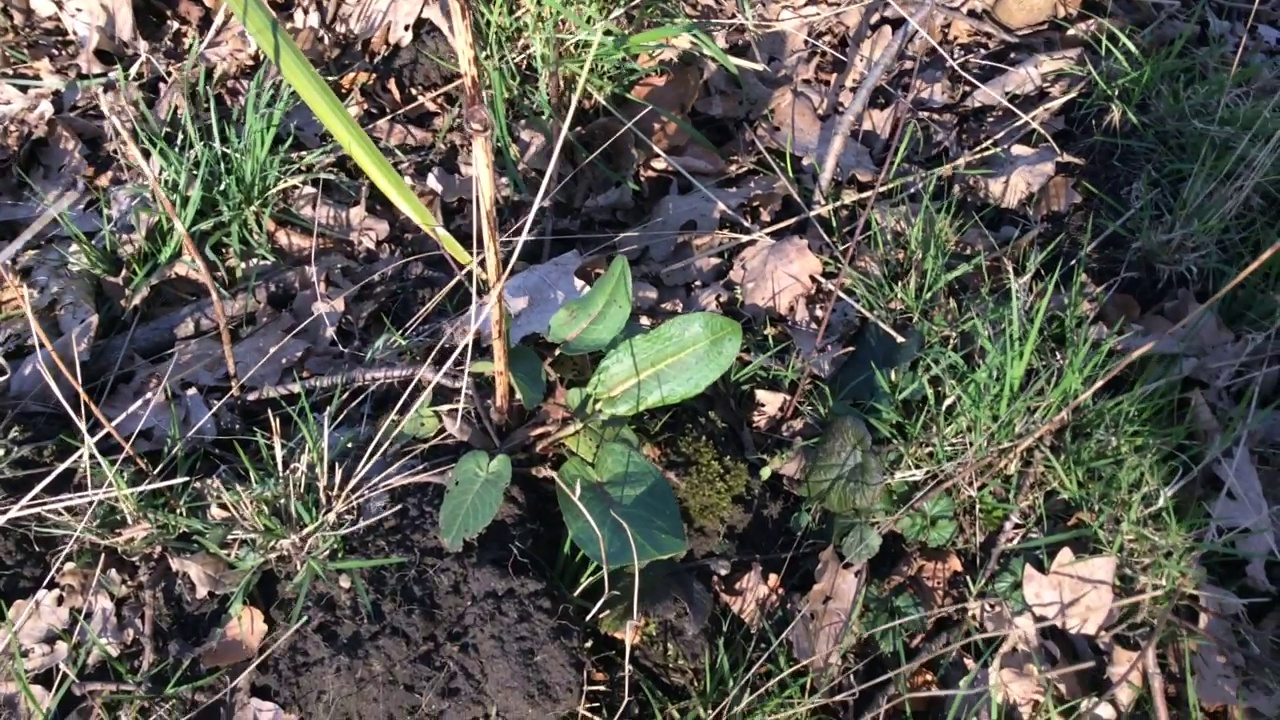rumex: (397, 254, 742, 564)
